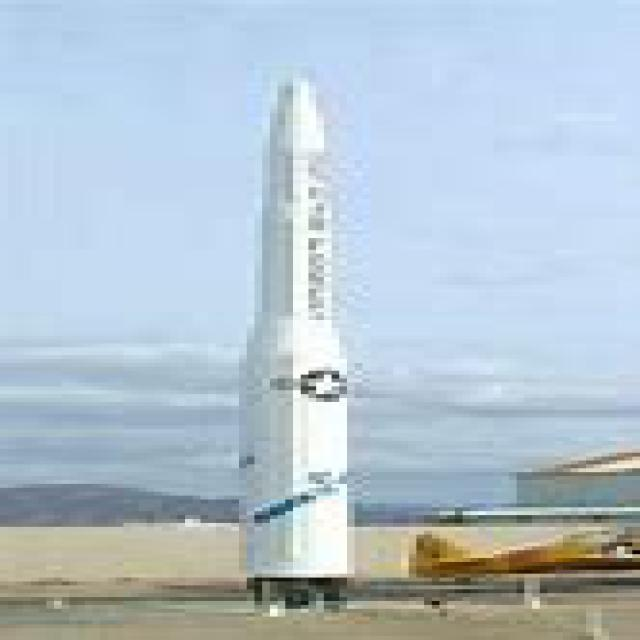missile: (242, 68, 362, 616)
